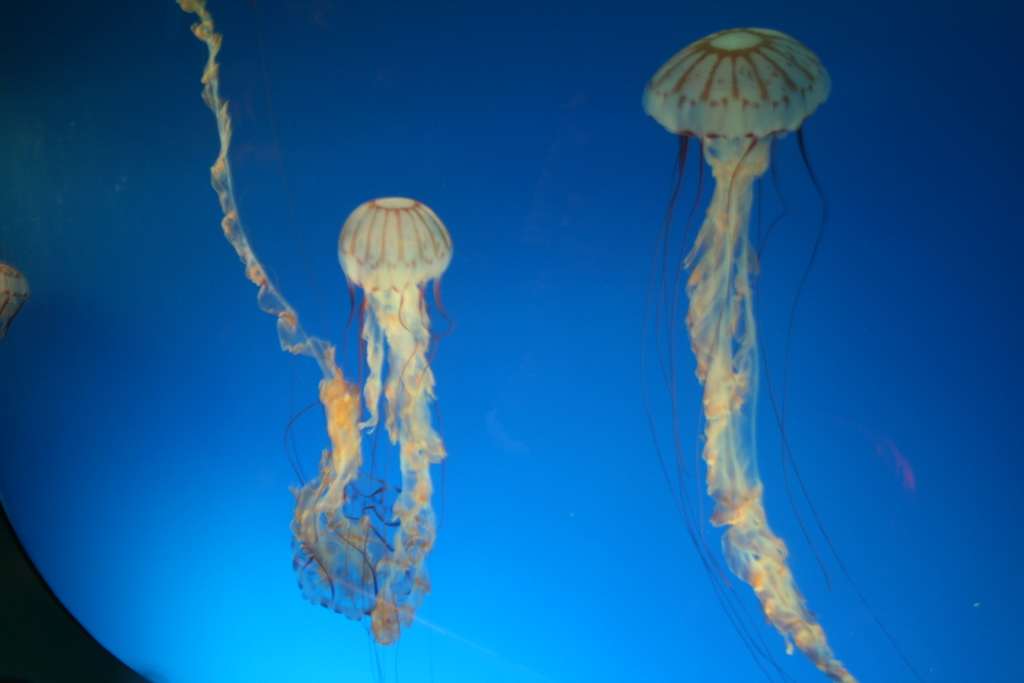Jellyfish: (633, 21, 922, 681), (174, 0, 414, 618), (335, 194, 457, 661)
